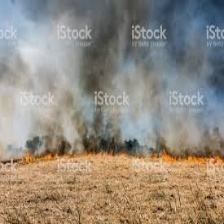smoke: (16, 4, 223, 149)
